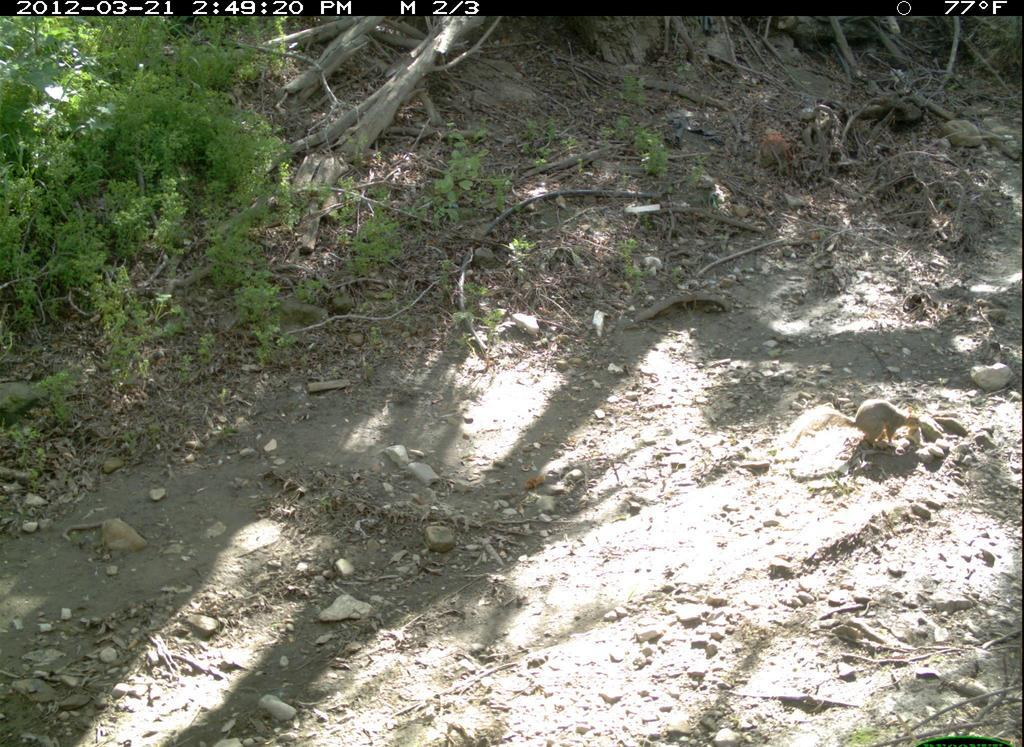squirrel: (785, 398, 929, 455)
